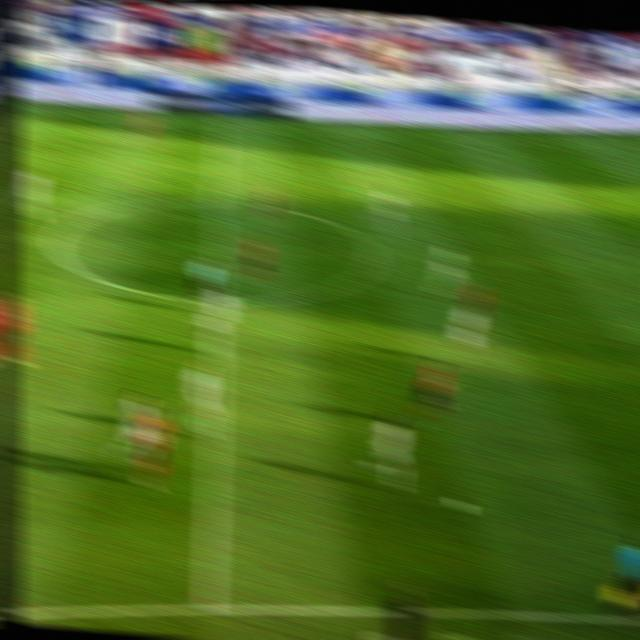halfcircle_bottom: (201, 286, 233, 319)
halfcircle_top: (203, 187, 236, 217)
midline_bottom_intersection: (190, 584, 229, 624)
midline_top_intersection: (208, 113, 235, 138)
